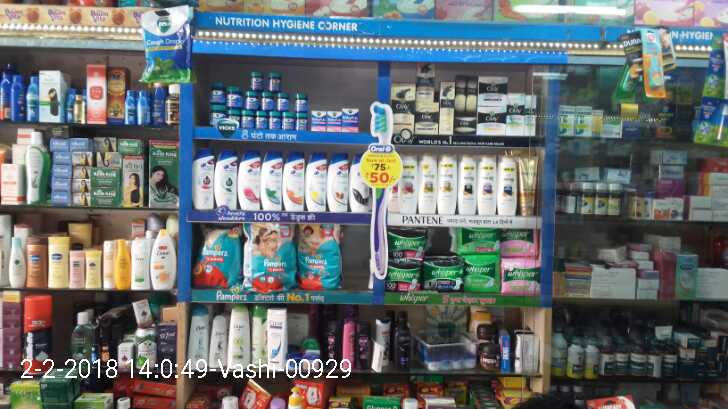beauty: (213, 149, 242, 210), (282, 153, 308, 213), (190, 149, 216, 209), (260, 152, 285, 210), (237, 151, 261, 210), (476, 151, 498, 213), (456, 154, 477, 213), (437, 153, 457, 213), (306, 156, 327, 213), (419, 152, 438, 213), (327, 155, 347, 212), (401, 152, 419, 215), (477, 73, 510, 107), (520, 157, 539, 216), (497, 159, 516, 216), (411, 102, 439, 134), (477, 105, 505, 133), (391, 78, 413, 113), (436, 97, 454, 134), (454, 116, 475, 135), (441, 80, 454, 97)
pharmacy: (290, 223, 347, 293), (189, 226, 243, 291), (242, 226, 296, 291), (385, 227, 427, 268), (496, 259, 541, 296), (450, 228, 500, 260), (460, 255, 501, 294), (421, 257, 464, 294), (499, 230, 537, 261), (379, 265, 419, 293), (340, 104, 359, 131), (223, 84, 242, 109), (324, 107, 342, 133), (208, 79, 225, 104), (264, 73, 285, 93), (309, 110, 327, 131), (292, 93, 309, 112), (244, 92, 261, 110), (261, 91, 275, 112), (274, 94, 288, 113), (249, 73, 263, 91), (255, 110, 268, 129), (295, 112, 308, 131), (269, 111, 281, 130), (240, 112, 253, 128), (282, 114, 295, 129)
